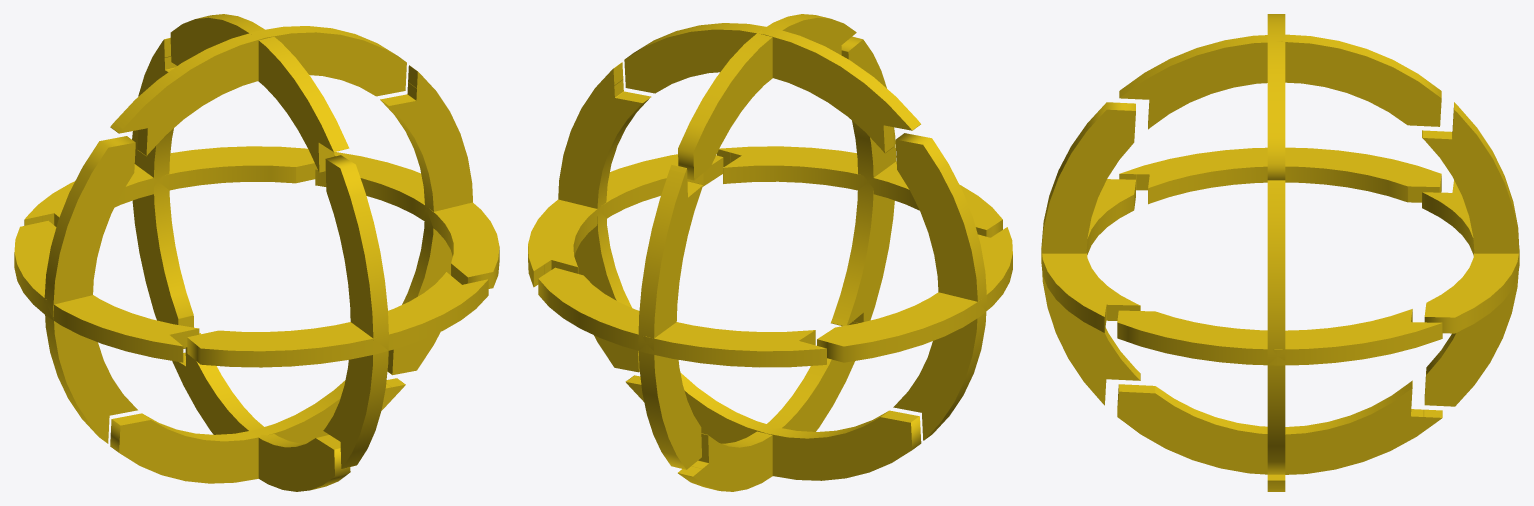
The model's file is GoldenGizmo-E7C40F.fbx.
3 renders of one model, left to right at view 1: azimuth 30°, elevation 25°; view 2: azimuth 150°, elevation 25°; view 3: azimuth 270°, elevation 25°, orthographic.
Parts seen in each view (by area): view 1: Curve.003, Curve.002, Curve.001; view 2: Curve.003, Curve.002, Curve.001; view 3: Curve.002, Curve.001, Curve.003.
Part boxes in pixels (x1,y1,x2,y2): Curve.003: [44, 26, 472, 483]; Curve.002: [132, 14, 388, 491]; Curve.001: [14, 146, 499, 367]; Curve.003: [558, 23, 986, 480]; Curve.002: [638, 14, 896, 491]; Curve.001: [528, 146, 1012, 367]; Curve.002: [1041, 34, 1519, 474]; Curve.001: [1041, 147, 1519, 365]; Curve.003: [1267, 14, 1285, 491].
Size of the model in its own units: 28.55 by 28.57 by 28.54.
